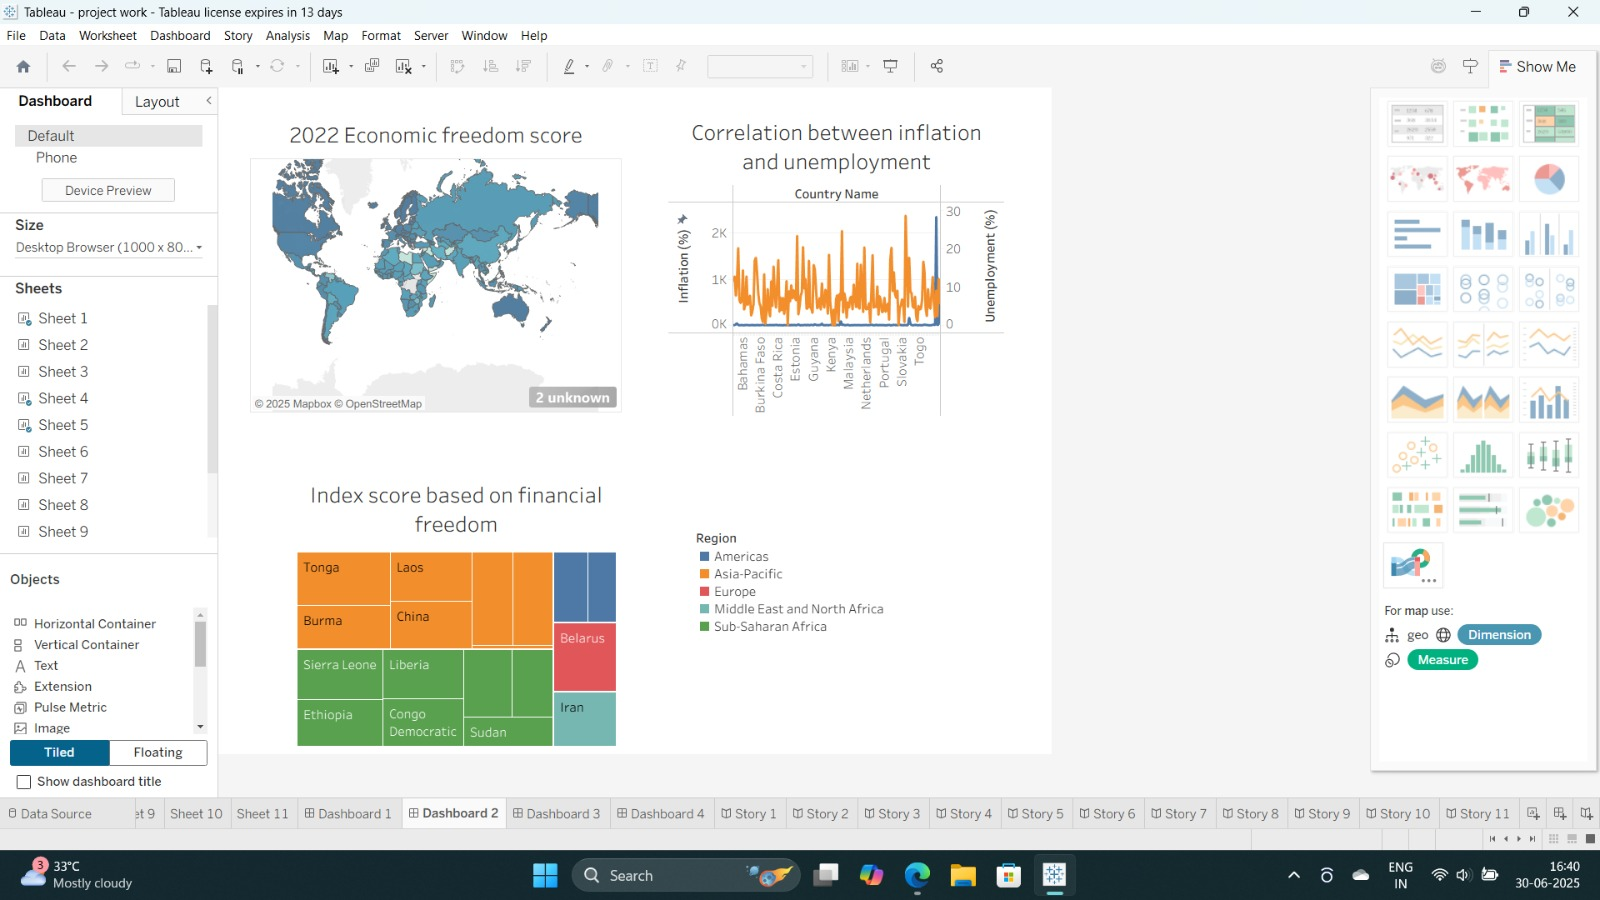

The dashboard page shown, as its layout file describes it:
{"tool":"tableau","page":{"name":"Dashboard 2","canvas":[1000,800],"ordinal":1},"visuals":[{"type":"worksheet","title":"Sheet 4","mark":"Line","rows":["Inflation (%)","Unemployment (%)"],"cols":["Country Name"],"box":[540,32,404,363]},{"type":"worksheet","title":"Sheet 1","mark":"Multipolygon","box":[38,35,446,355]},{"type":"worksheet","title":"Sheet 5","mark":"Automatic","box":[89,467,484,329]},{"type":"legend","title":"Sheet 5","param":"[federated.1bvdiqv07tdfil12pc6ir0y7xcc5].[none:Region:nk]","box":[573,530,231,127]}]}

Visuals, with their boxes on the page's 1000x800 design canvas (x1, y1, x2, y2). These are canvas units, not pixel positions in the 1600x900 screenshot, which may show the page scaled, cropped or inside an application window:
"Sheet 4" worksheet (Line marks): 540/32/944/395
"Sheet 1" worksheet (Multipolygon marks): 38/35/484/390
"Sheet 5" worksheet: 89/467/573/796
"Sheet 5" legend: 573/530/804/657
